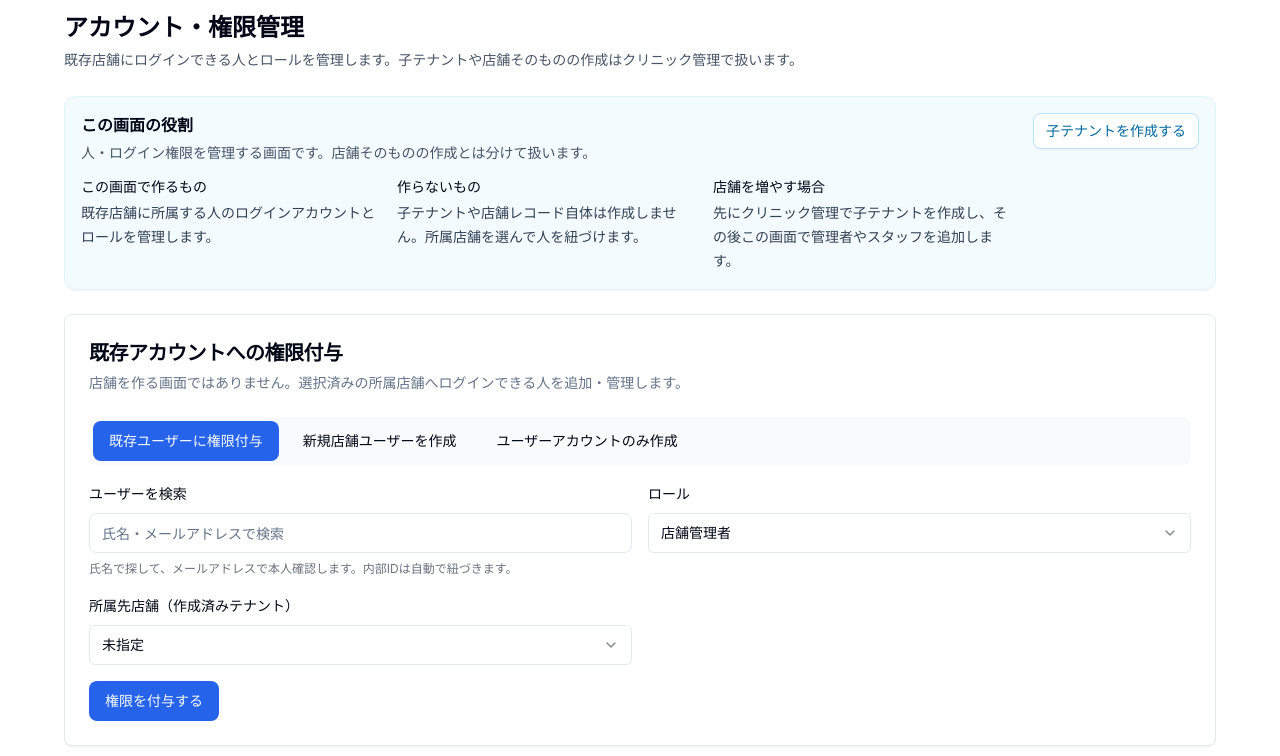
Scenario: AdminUsersPage › lets admin optionally grant role during account-only creation without clinic
The width and height of the screenshot is (1280, 756).
Click the button "ユーザーアカウントのみ作成". click: (587, 441)
box: left=480, top=421, right=694, bottom=461
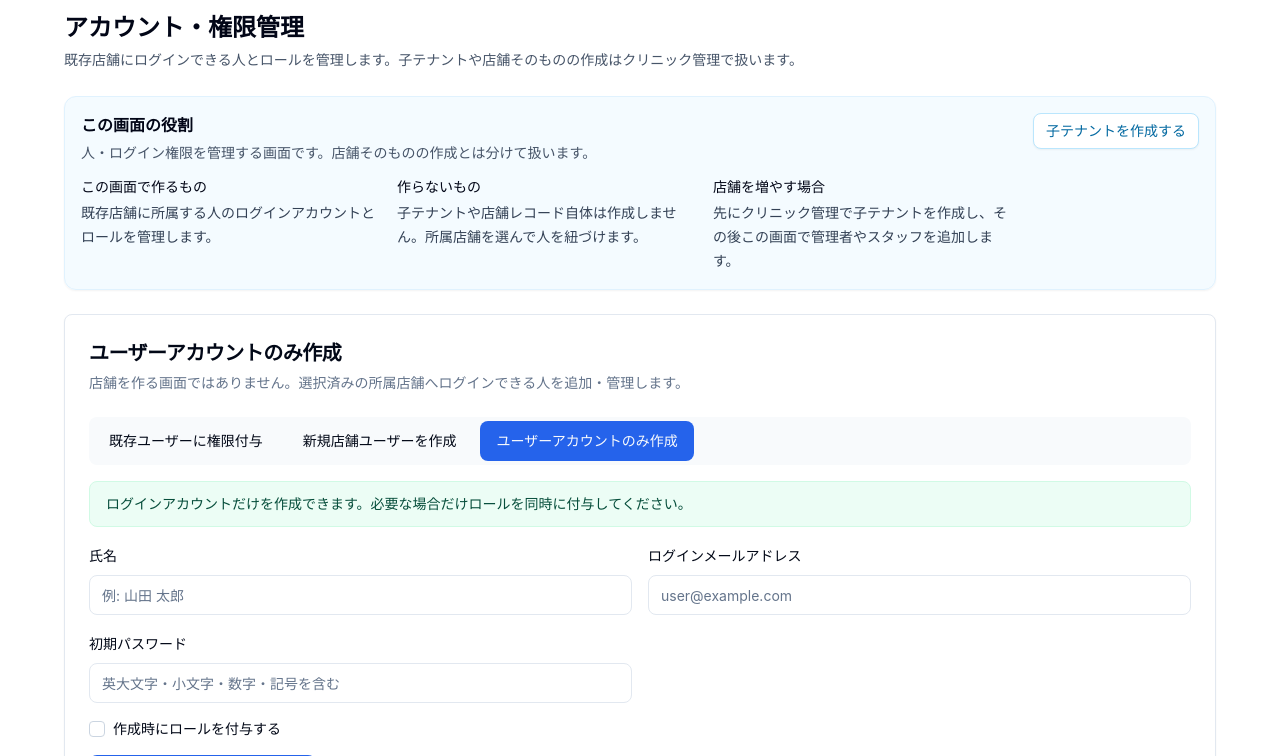
Click the checkbox labelled "作成時にロールを付与する". click: (97, 729)
box: left=89, top=721, right=105, bottom=737
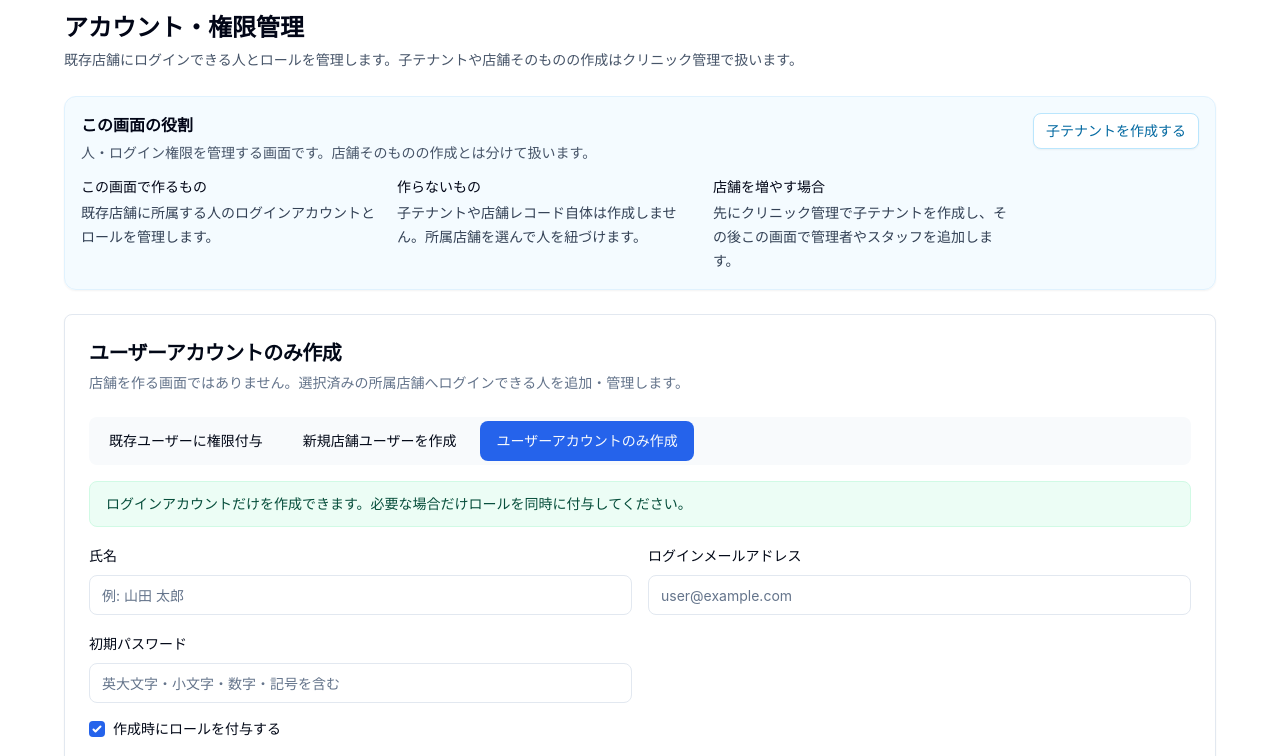
Type "未所属 管理者" into the field labelled "氏名". click: (360, 595)
box: left=89, top=575, right=632, bottom=615
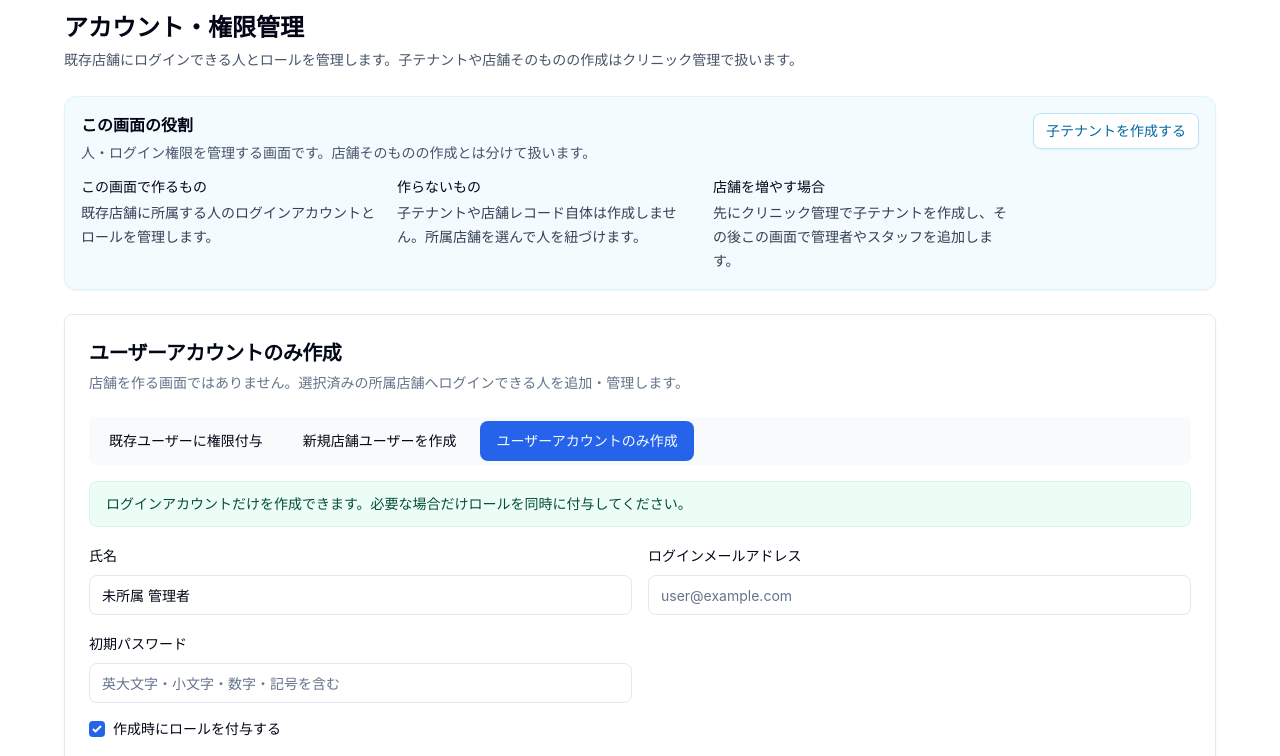
Type "ROLE-ONLY@example.com" into the field labelled "ログインメールアドレス". click: (920, 595)
box: left=648, top=575, right=1191, bottom=615
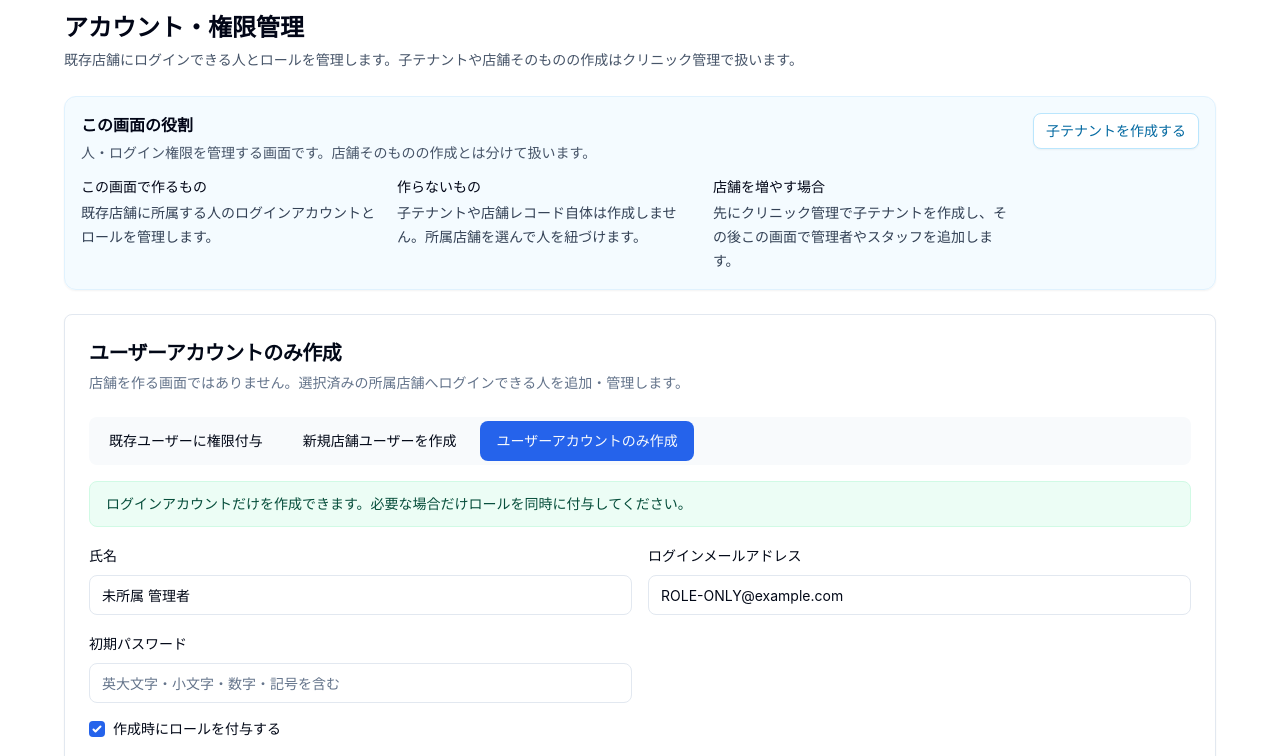
Type "SafePass123!" into the password field labelled "初期パスワード". click: (360, 683)
box: left=89, top=663, right=632, bottom=703
(page scrolled)
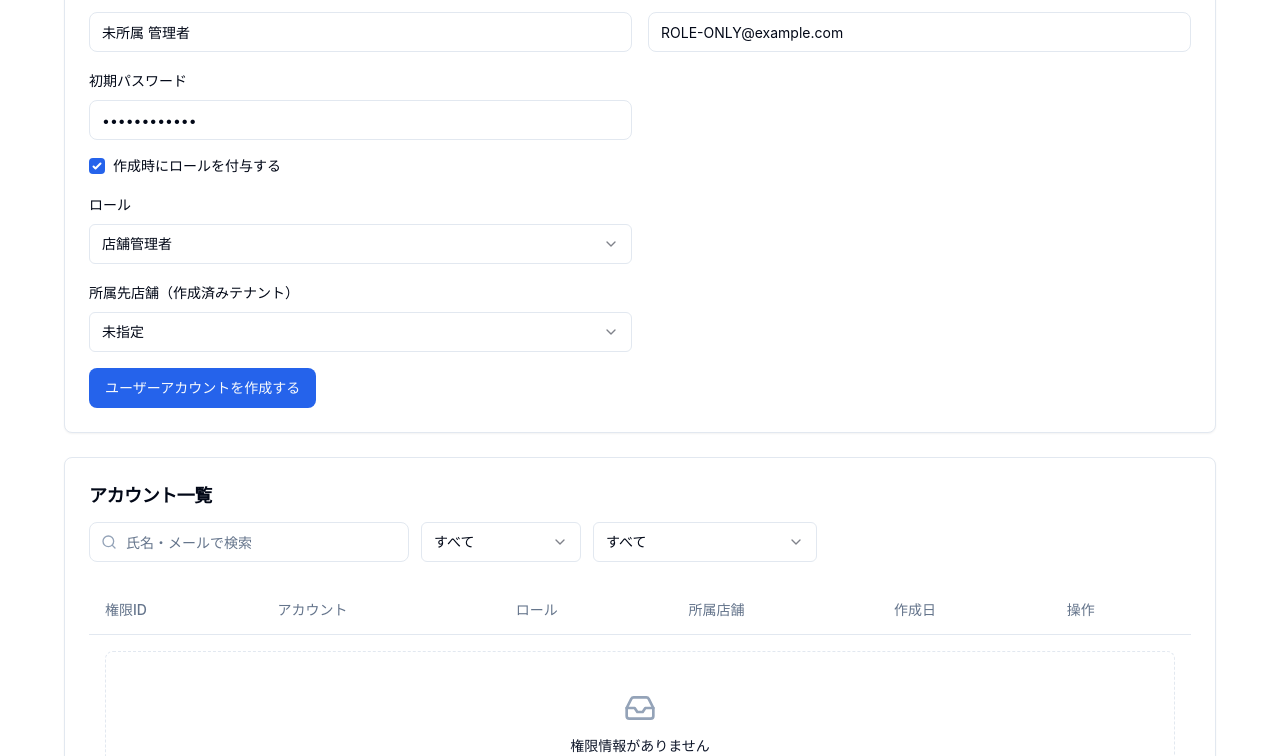
Click the button "ユーザーアカウントを作成する". click: (203, 388)
box: left=89, top=368, right=316, bottom=408
(page scrolled)
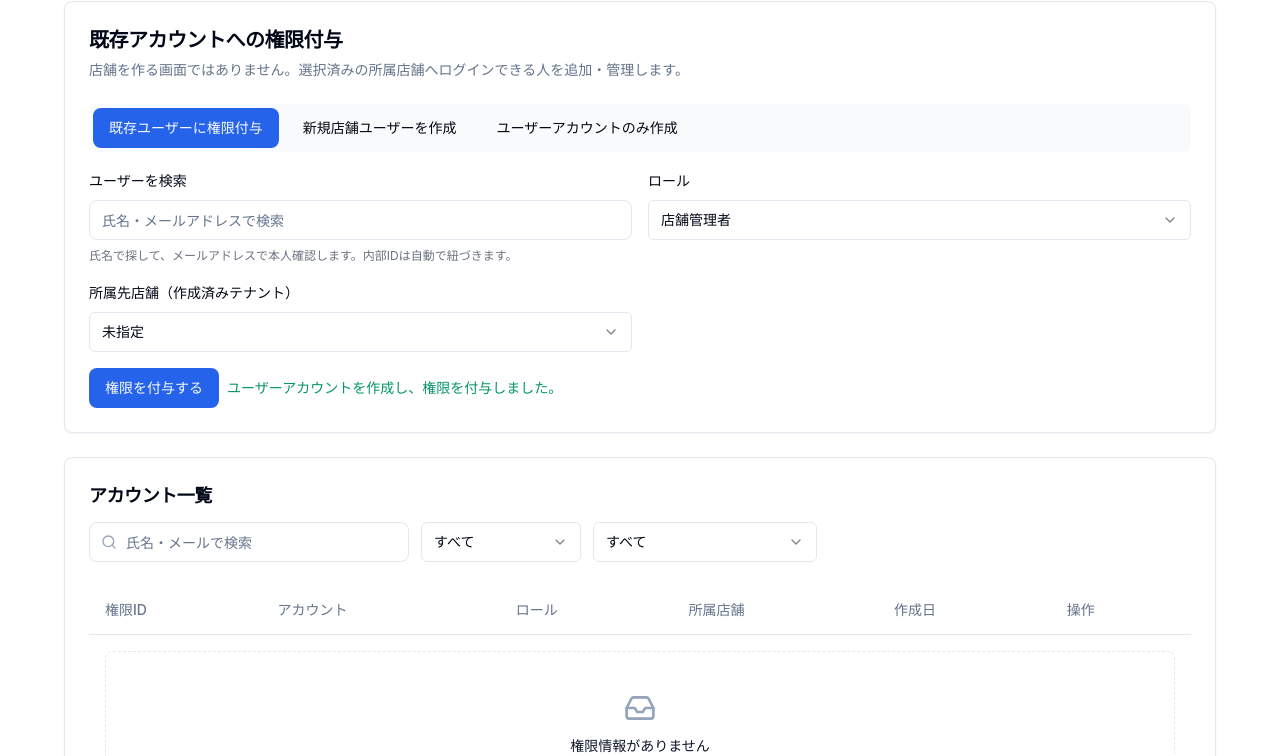
Check: the text "ユーザーアカウントを作成し、権限を付与しました。" is shown, box left=227, top=378, right=562, bottom=398
